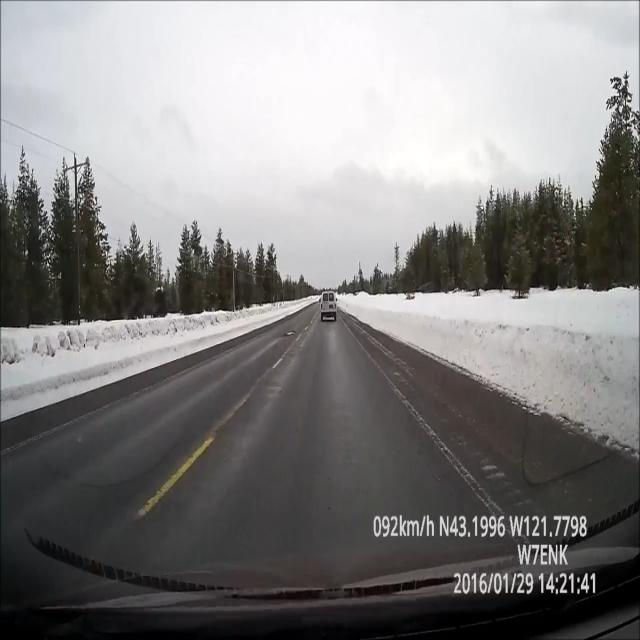Pothole: (278, 322, 298, 340)
